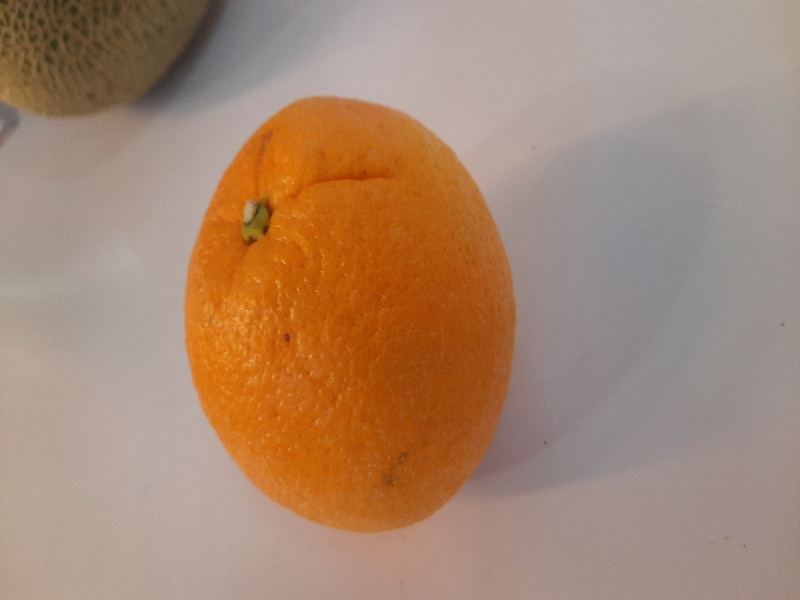fruit: (178, 91, 530, 542)
